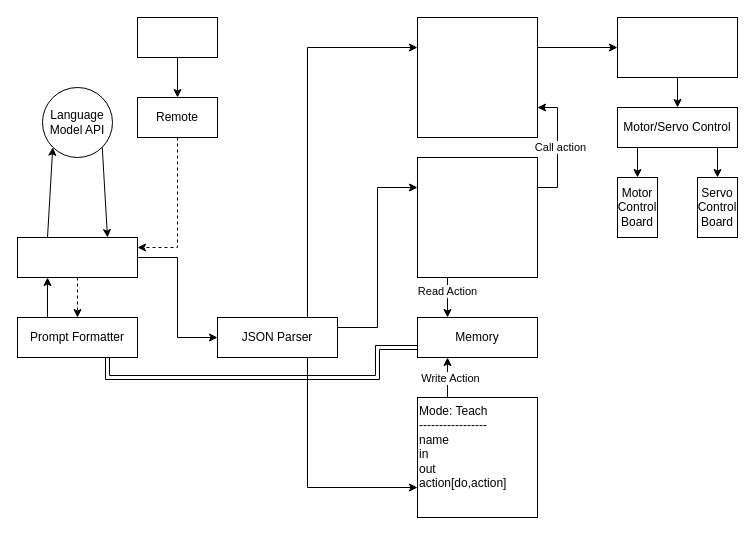
The diagram is 755 pixels wide and 535 high, and some of its shapes have lost their labels. Each missing label, with the box of its shape:
Mode: Do ------------- x y roll pitch yaw actuate: (416, 16, 538, 138)
Mode: Run ------------- name ins: (416, 156, 538, 278)
Network Interface: (16, 236, 138, 278)
Poser xy -> theta: (616, 16, 738, 78)
Prompt Input (Keyboard): (136, 16, 218, 58)
